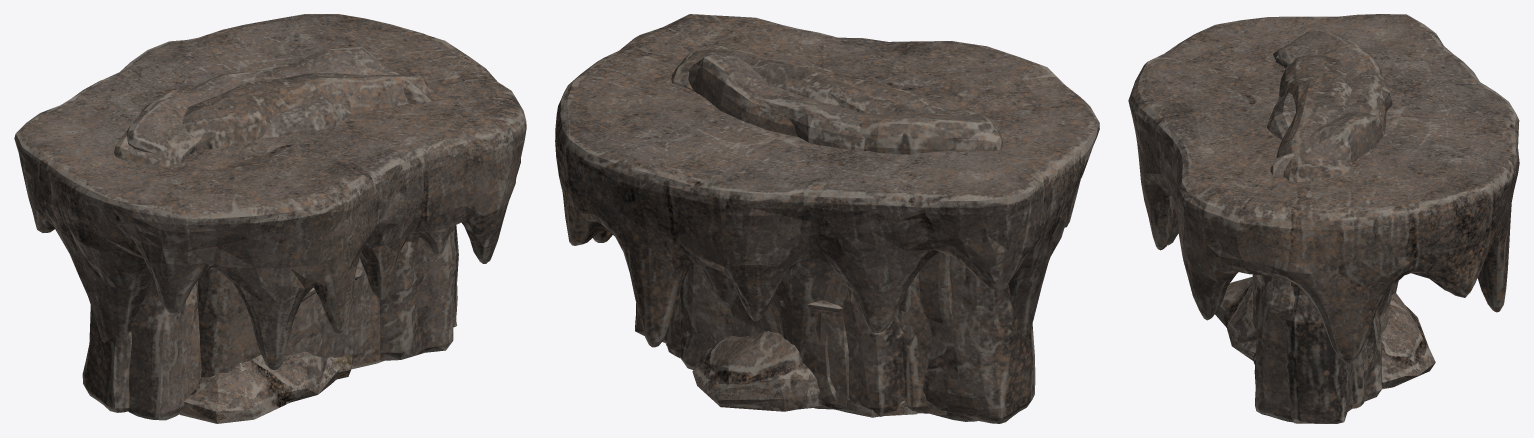
The model's file is KitCueva.fbx.
3 renders of one model, left to right at view 1: azimuth 30°, elevation 25°; view 2: azimuth 150°, elevation 25°; view 3: azimuth 270°, elevation 25°, orthographic. The views are drawn at different scales.
Visible parts, largest first — view 1: S_CaveTopSpears02_8, S_CaveWallCorner01_9, S_CaveWall03_13, S_CaveWall02_12, S_CaveWallCorner02_10, S_CaveRock02_1, S_CaveWall01_11; view 2: S_CaveTopSpears02_8, S_CaveWall03_13, S_CaveWallCorner02_10, S_CaveRock02_1, S_CaveWallCorner01_9, S_CaveWall01_11, S_CaveWall02_12; view 3: S_CaveTopSpears02_8, S_CaveWall03_13, S_CaveWallCorner01_9, S_CaveWallCorner02_10, S_CaveRock02_1, S_CaveWall02_12, S_CaveWall01_11.
Part boxes in pixels (bbox=[...]): S_CaveTopSpears02_8: bbox=[14, 14, 526, 370]; S_CaveWallCorner01_9: bbox=[114, 65, 453, 420]; S_CaveWall03_13: bbox=[82, 69, 458, 412]; S_CaveWall02_12: bbox=[198, 96, 351, 377]; S_CaveWallCorner02_10: bbox=[126, 46, 431, 394]; S_CaveRock02_1: bbox=[179, 352, 340, 423]; S_CaveWall01_11: bbox=[351, 292, 384, 369]; S_CaveTopSpears02_8: bbox=[555, 14, 1099, 353]; S_CaveWall03_13: bbox=[635, 49, 1035, 423]; S_CaveWallCorner02_10: bbox=[688, 46, 994, 411]; S_CaveRock02_1: bbox=[692, 331, 917, 417]; S_CaveWallCorner01_9: bbox=[730, 95, 1004, 411]; S_CaveWall01_11: bbox=[664, 252, 977, 421]; S_CaveWall02_12: bbox=[667, 64, 946, 414]; S_CaveTopSpears02_8: bbox=[1128, 14, 1519, 362]; S_CaveWall03_13: bbox=[1276, 55, 1352, 423]; S_CaveWallCorner01_9: bbox=[1254, 42, 1392, 422]; S_CaveWallCorner02_10: bbox=[1270, 30, 1386, 290]; S_CaveRock02_1: bbox=[1215, 277, 1435, 389]; S_CaveWall02_12: bbox=[1252, 92, 1368, 408]; S_CaveWall01_11: bbox=[1282, 309, 1382, 420].
Size of the model in its own units: 1096 by 672 by 886.
